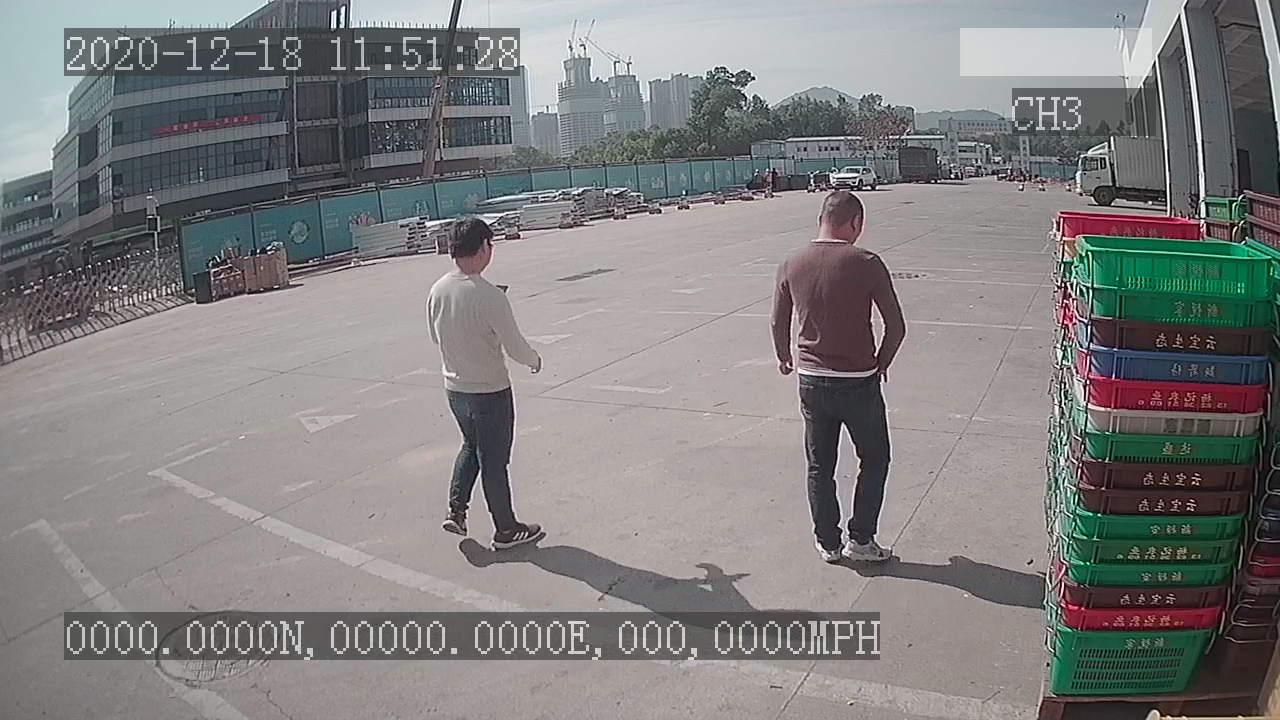person: (761, 185, 915, 570), (415, 210, 552, 556)
